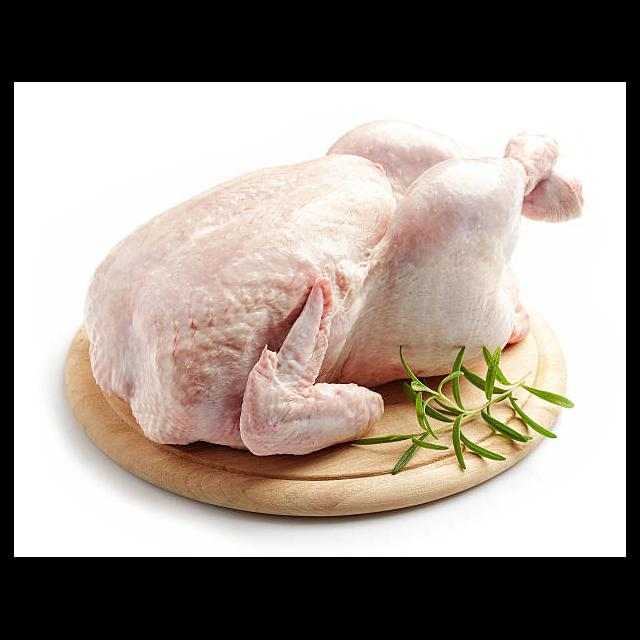chicken: (90, 120, 583, 452)
